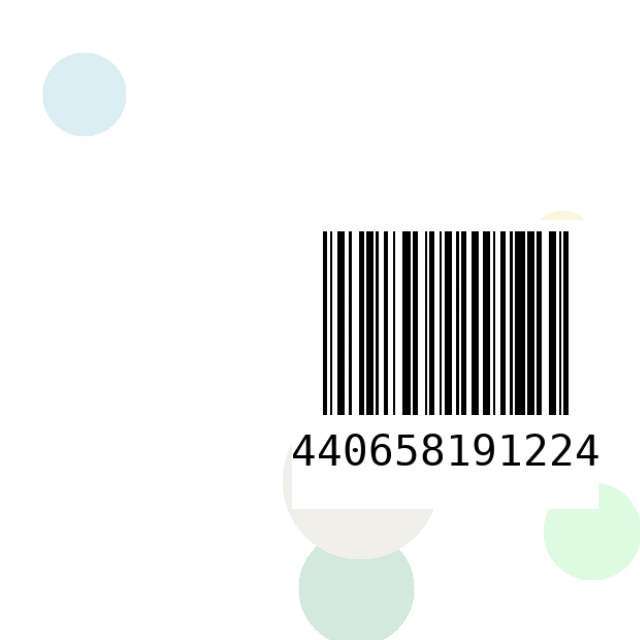barcode: (292, 220, 599, 509)
